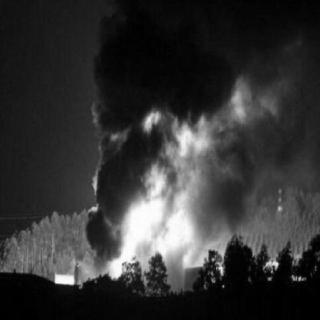Smoke: (83, 4, 317, 200)
